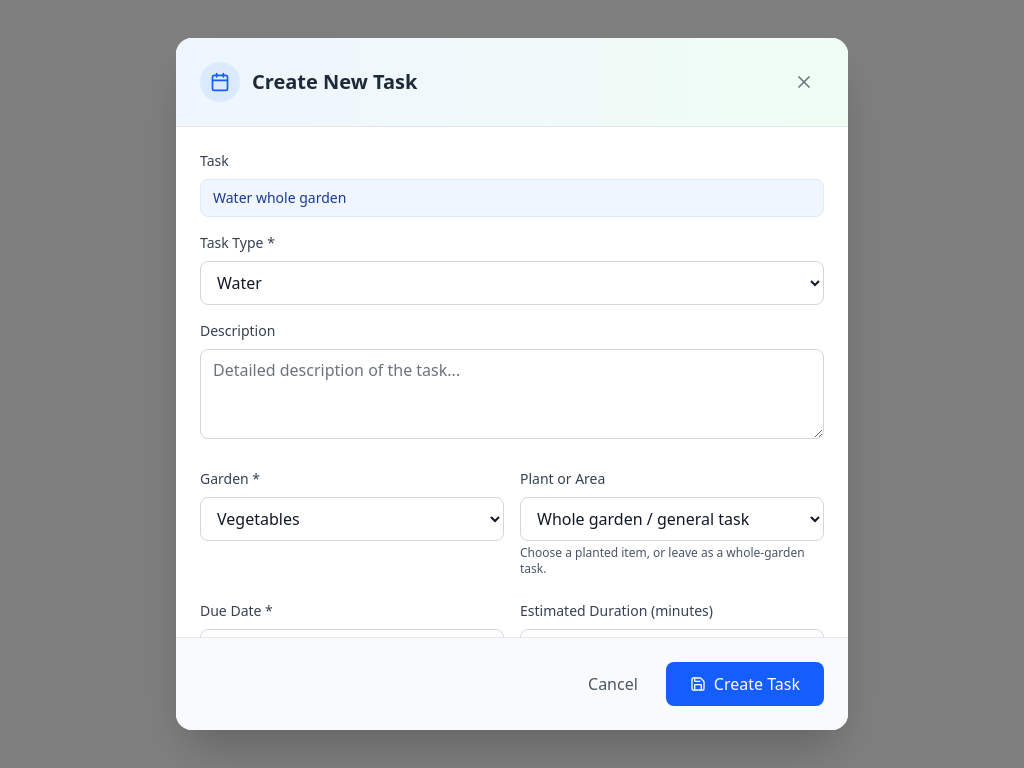
Test: legacy task editing › rejects unsupported types and arbitrary plant labels on new tasks
Select "Unsupported" in the dropdown labelled "Task Type *": (512,283) [200, 261, 824, 305]
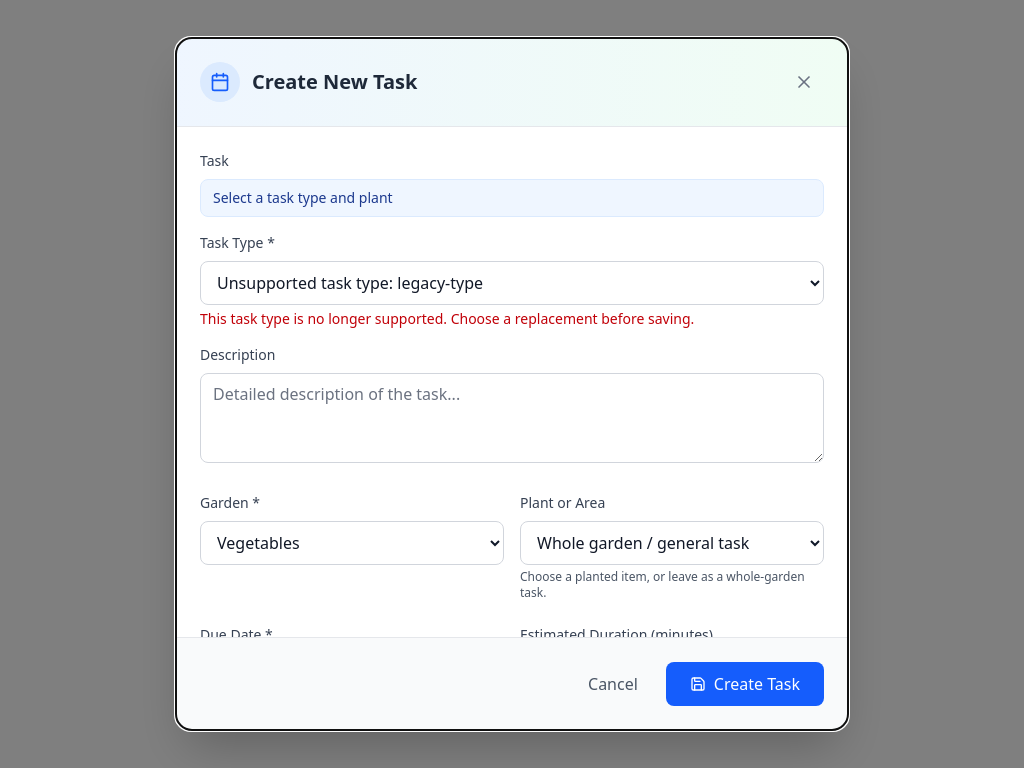
Click the button "Create Task": (745,684) [666, 662, 824, 706]
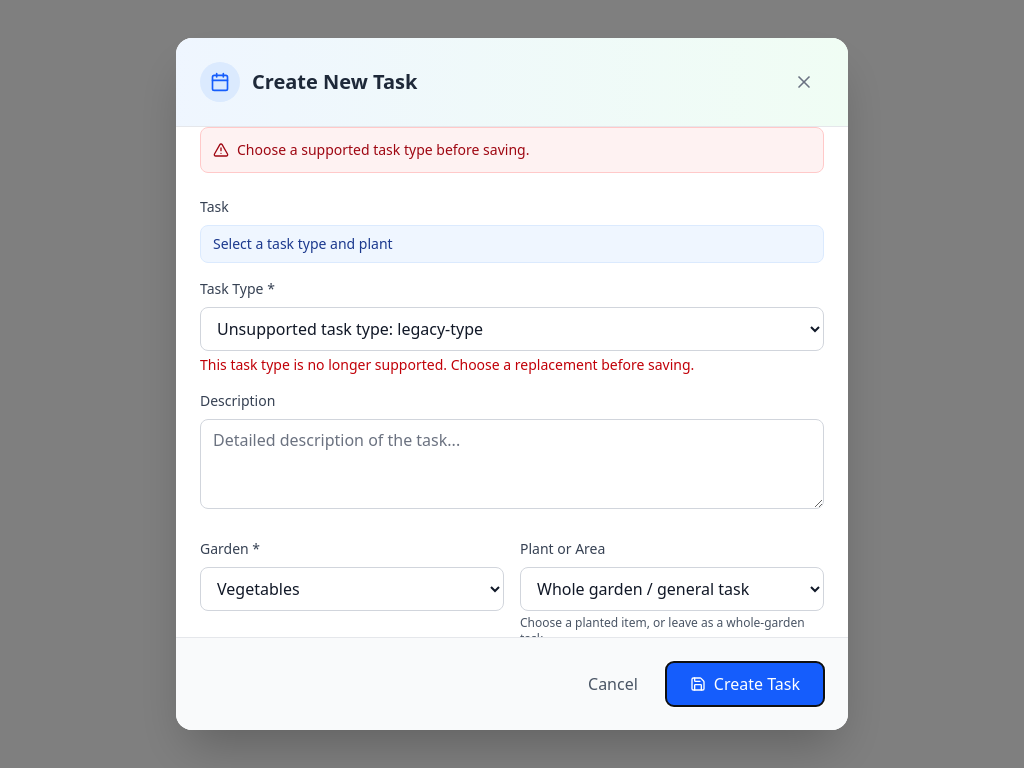
Check: the message shows "Choose a supported task type", box [237, 140, 529, 159]
Select "Water" in the dropdown labelled "Task Type *": (512,329) [200, 307, 824, 351]
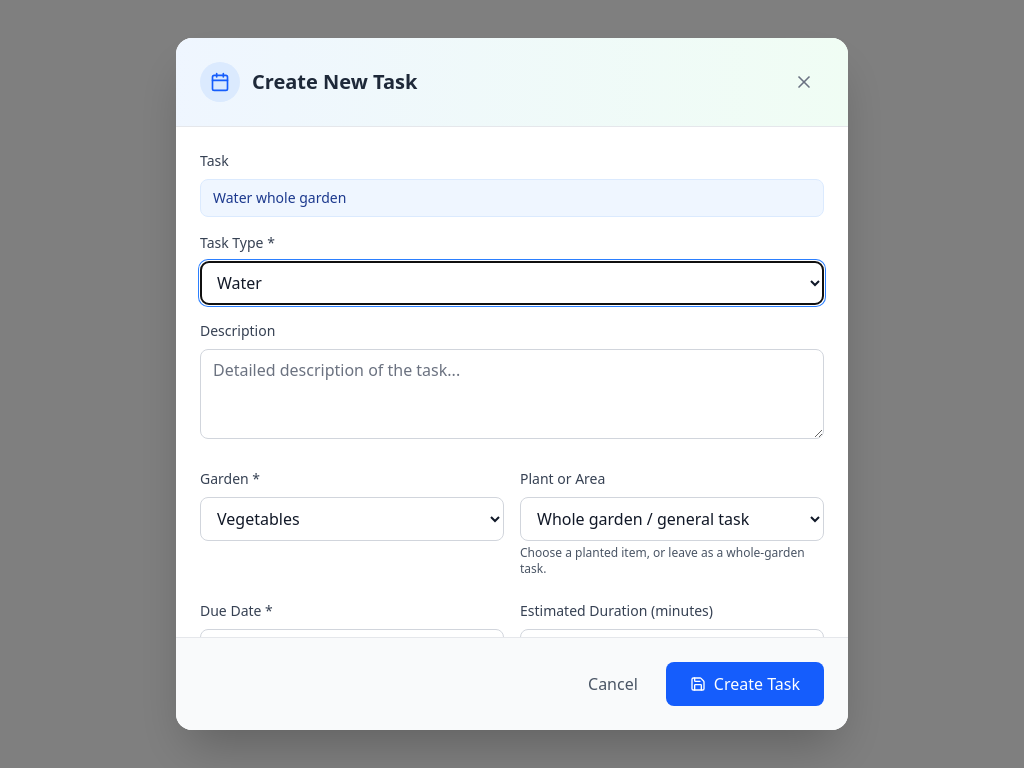
Select "Not a saved label" in the dropdown labelled "Plant or Area": (672,519) [520, 497, 824, 541]
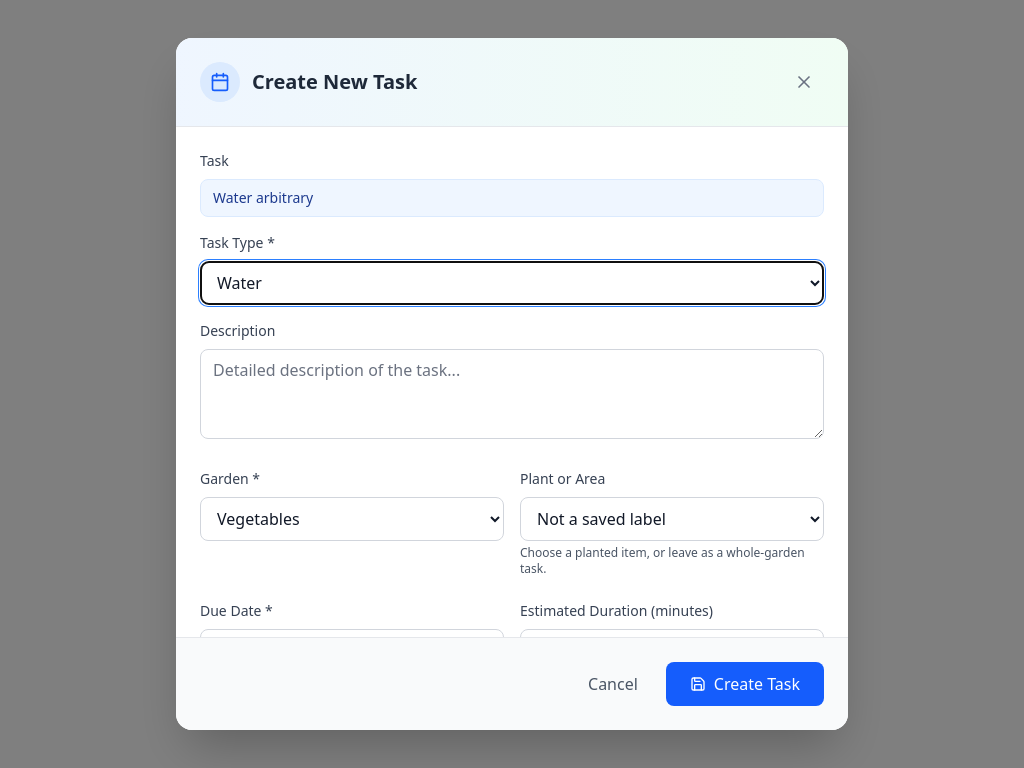
Click the button "Create Task": (745,684) [666, 662, 824, 706]
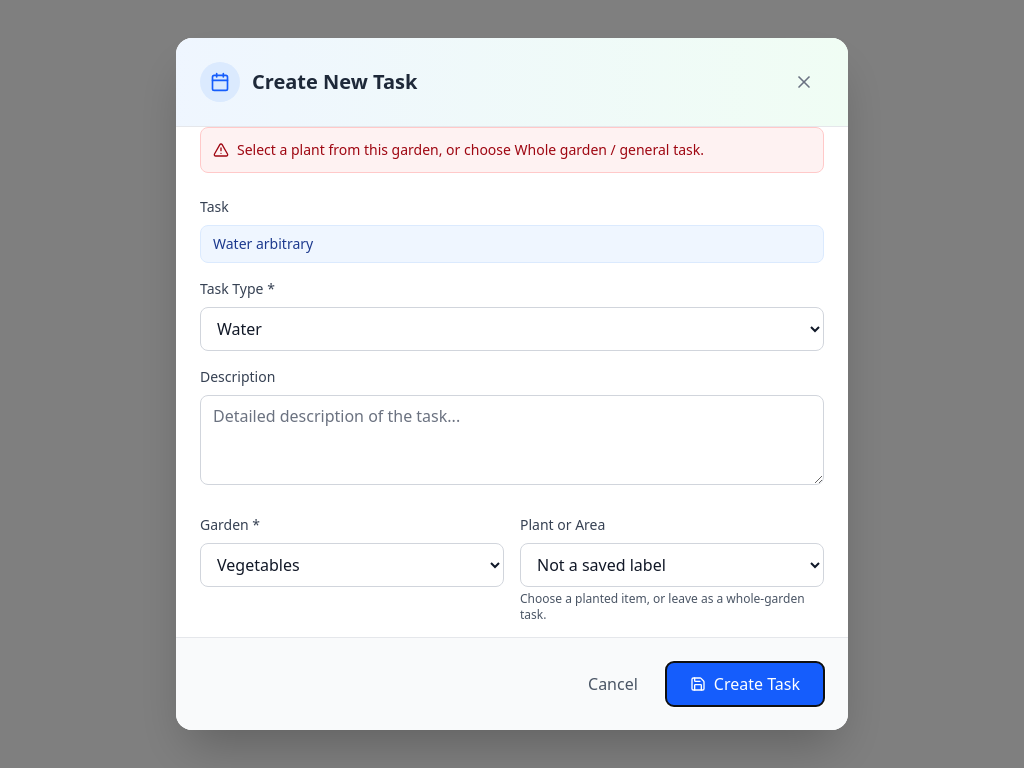
Check: the message shows "Select a plant from this garden", box [237, 140, 704, 159]
